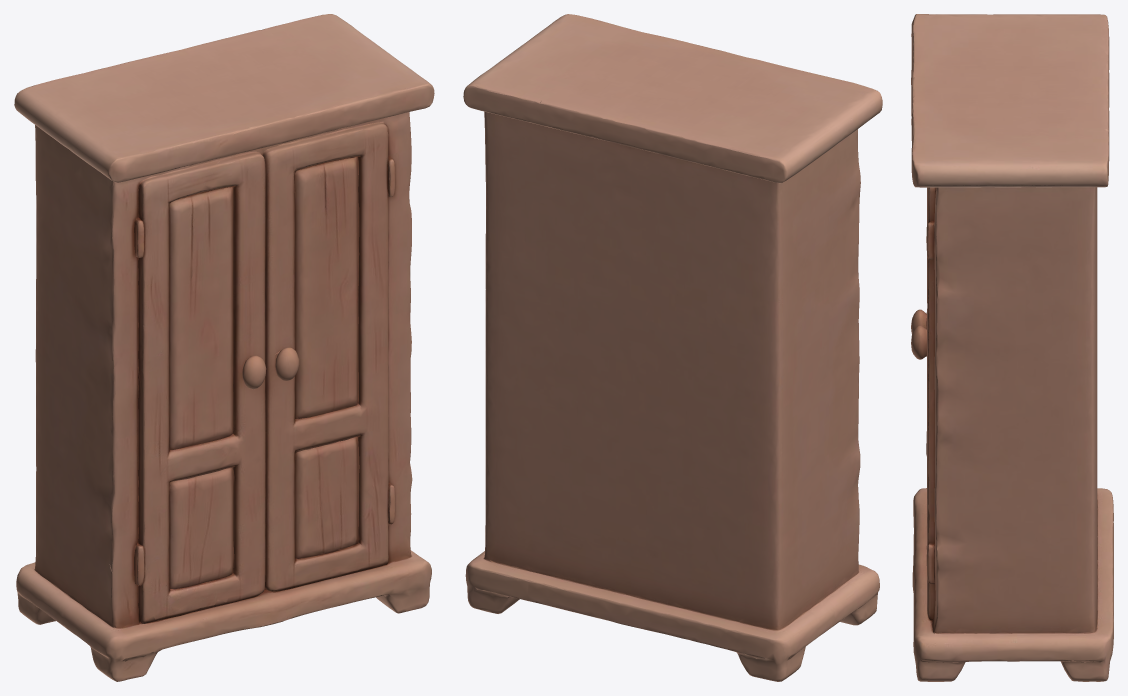
Rendered from wardrobe.glb.
The picture shows the model from 3 angles, left to right: view 1: azimuth 30°, elevation 25°; view 2: azimuth 150°, elevation 25°; view 3: azimuth 270°, elevation 25°; orthographic projection.
Parts seen in each view (by area): view 1: Mesh; view 2: Mesh; view 3: Mesh.
Boxes of the visible parts, x1,y1,x2,y2 form: Mesh: (14, 14, 434, 681); Mesh: (463, 14, 882, 681); Mesh: (911, 14, 1113, 681).
Size of the model in its own units: 1.22 by 1.88 by 0.6644.
1 material, 1 textured.
